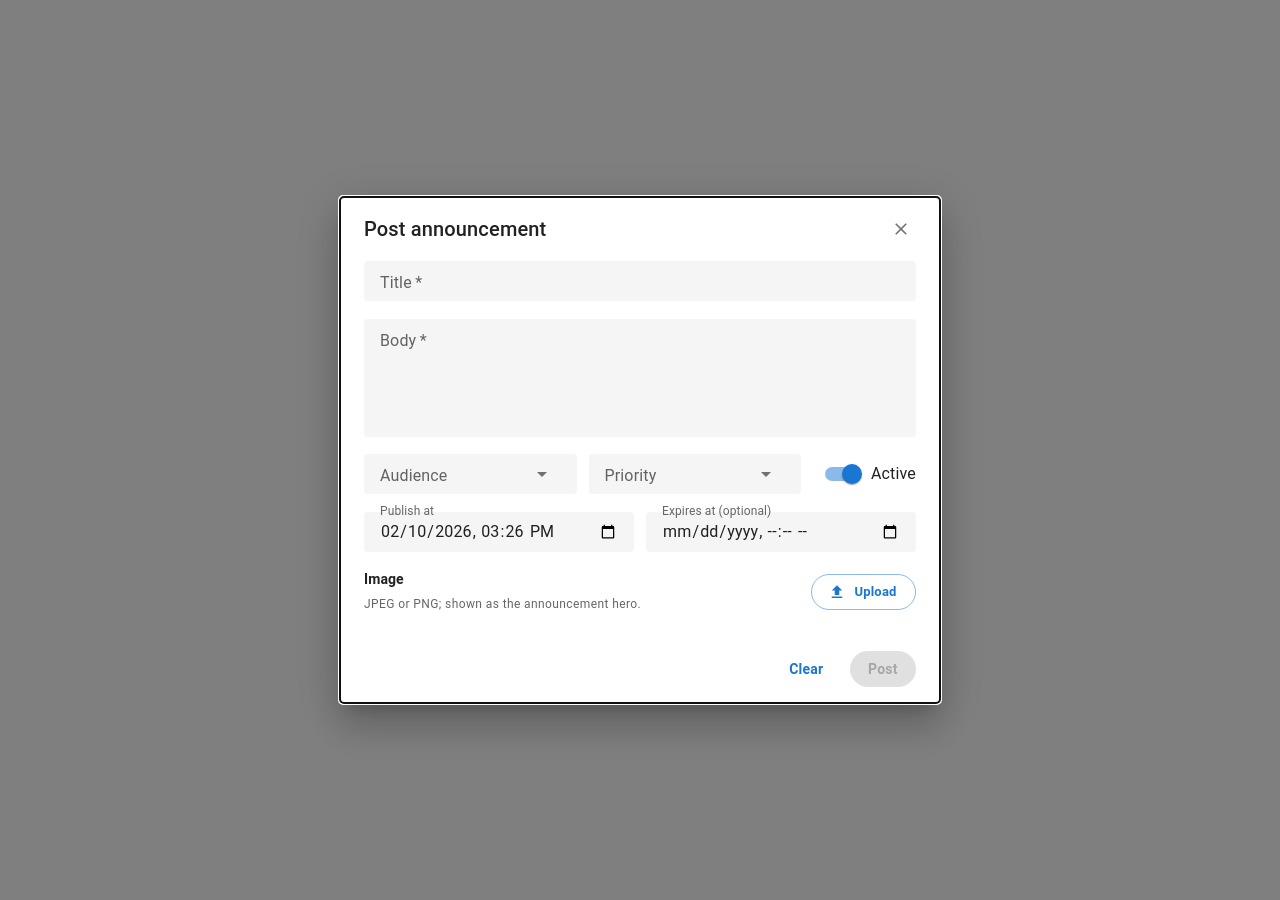
AddAnnouncementDialog › clears draft fields when Clear is clicked
The width and height of the screenshot is (1280, 900).
Type "Welcome" into the field labelled "Title *" at (640, 281), box [380,270,900,292]
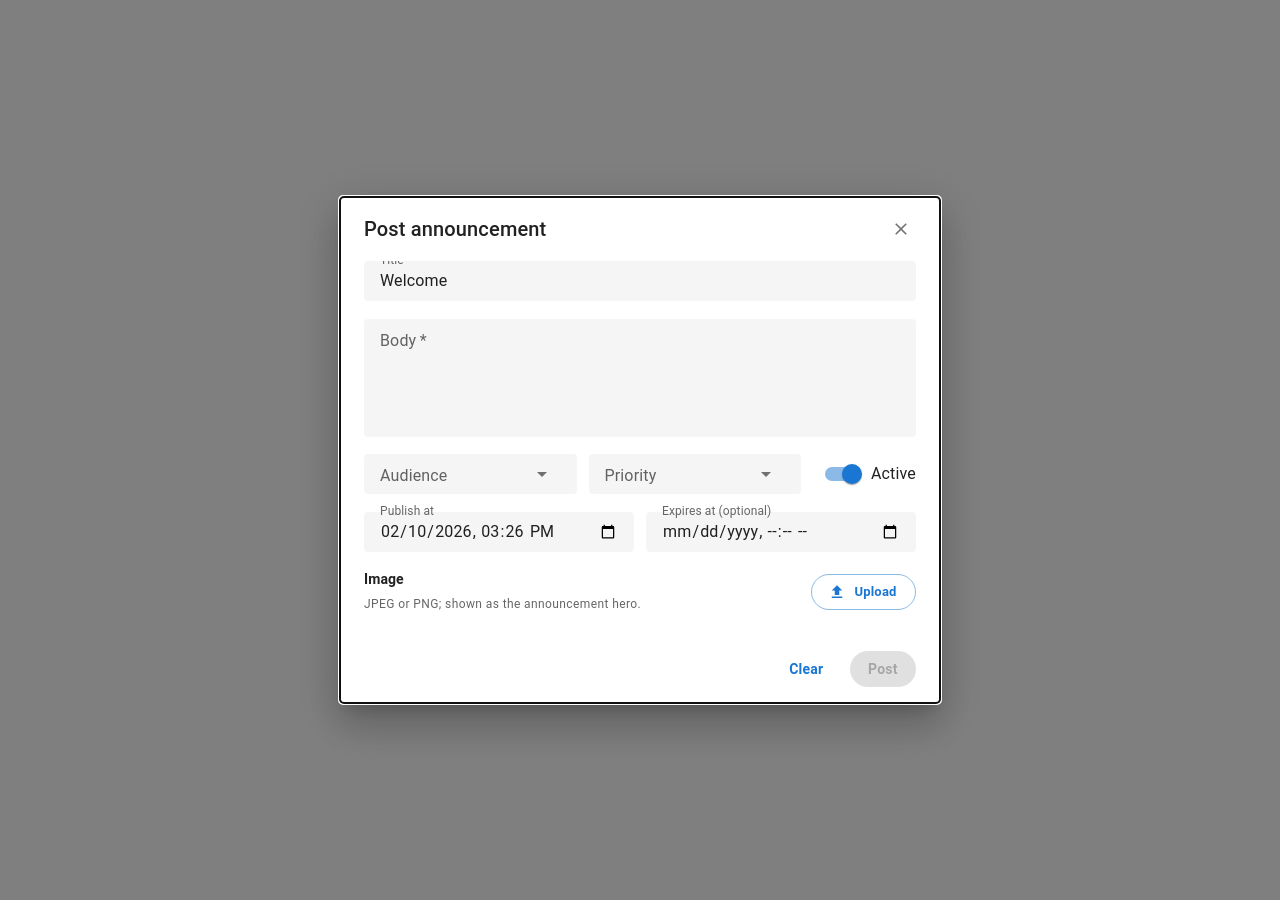
Type "Hello team" into the text box labelled "Body *" at (640, 378), box [394,335,886,420]
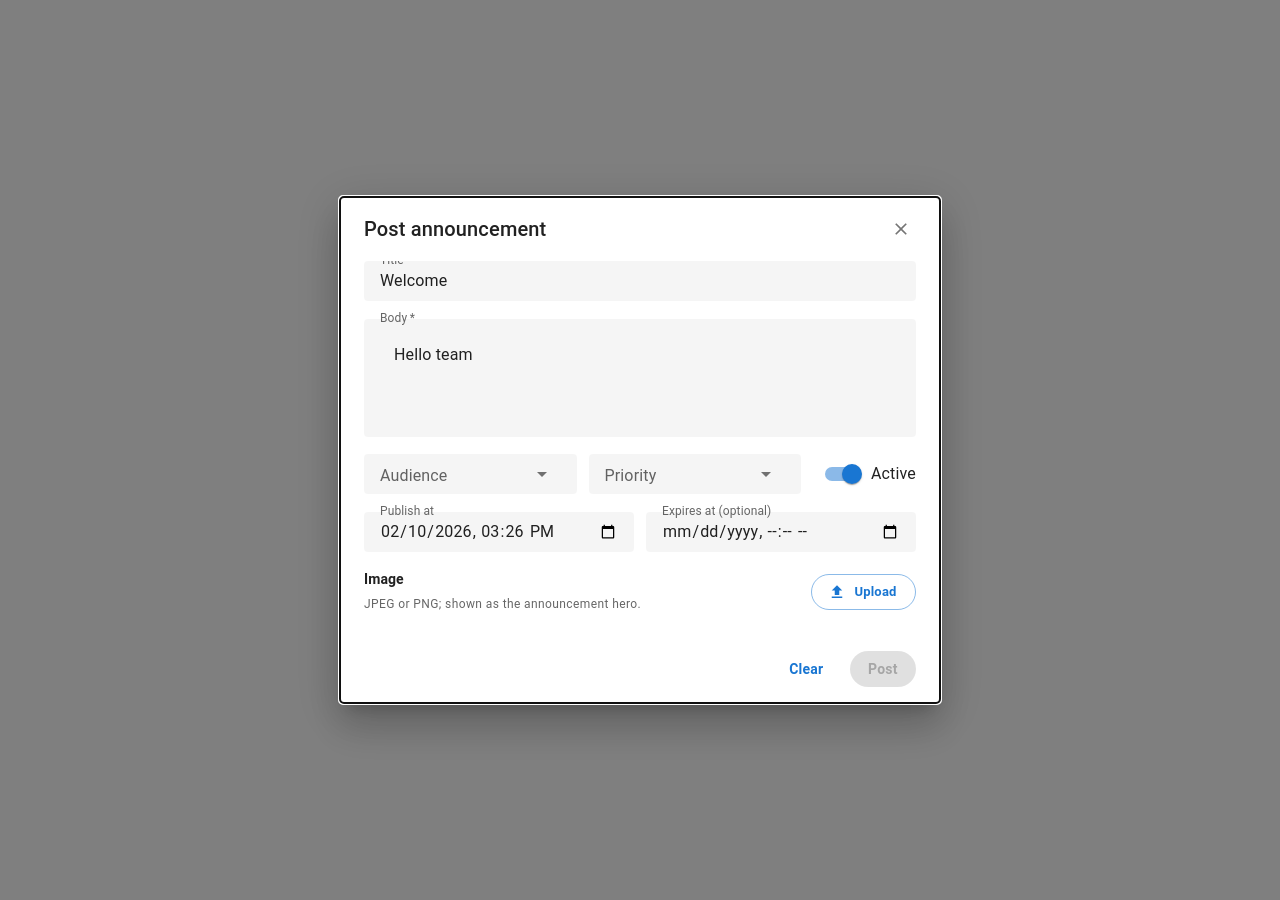
Click the button "Clear" at (806, 669), box [771,651,842,687]
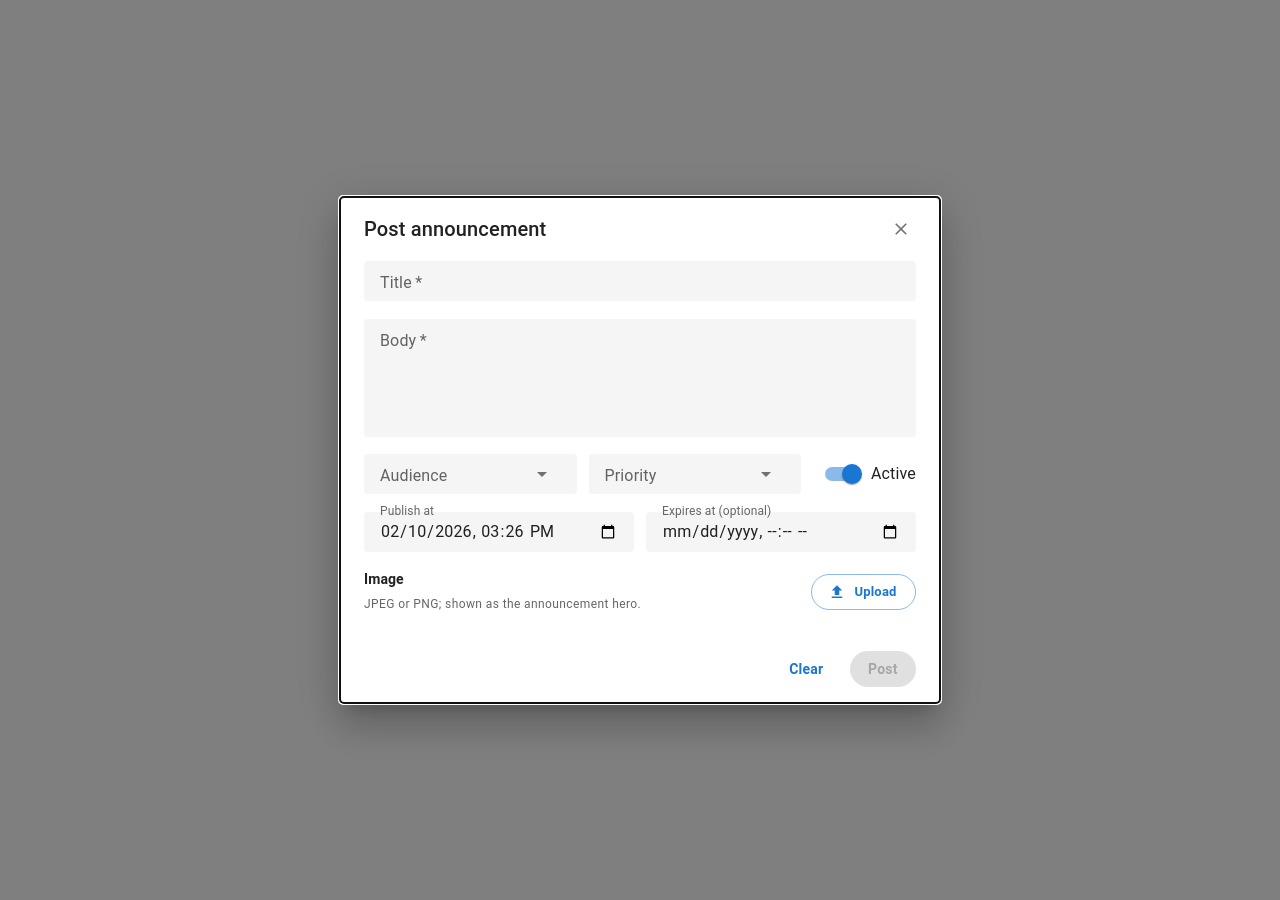
Expected: the field labelled "Title *" is empty, [380,270,900,292]
Expected: the text box labelled "Body *" is empty, [394,335,886,420]
